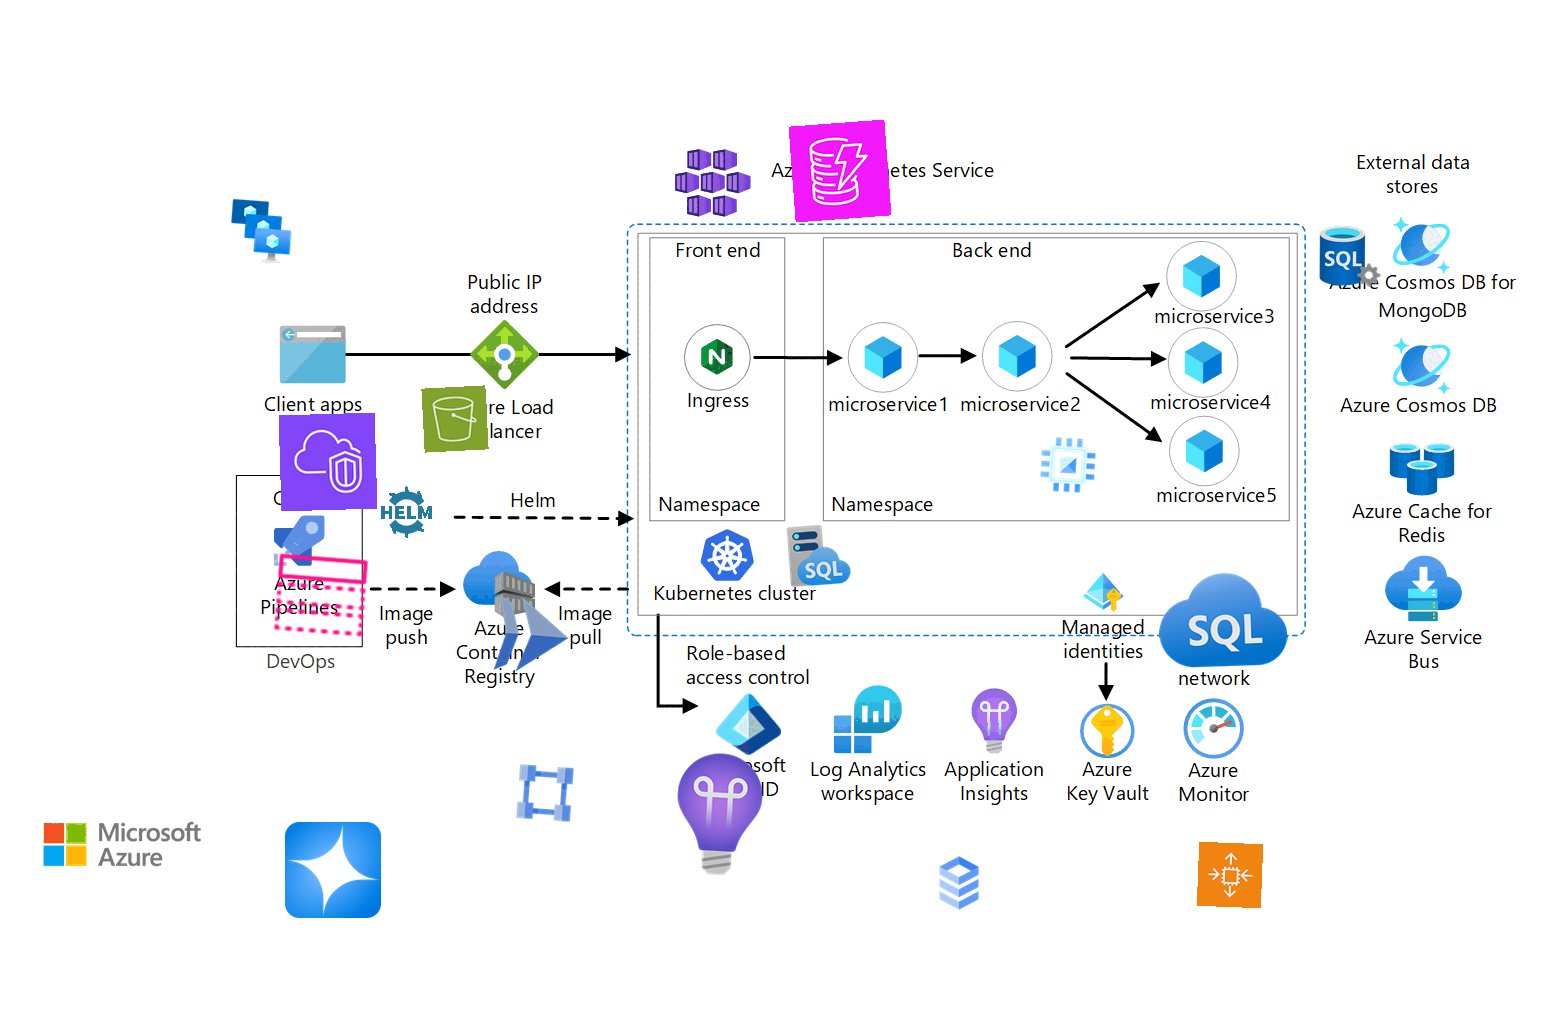aws_amazon_dynamodb: (788, 119, 893, 224)
aws_amazon_ec2_auto_scaling: (1196, 841, 1264, 909)
aws_amazon_simple_storage_service: (420, 385, 489, 453)
aws_amazon_virtual_private_cloud: (278, 411, 378, 512)
aws_simple_notification_service_topic: (269, 543, 374, 646)
azure_application_insights: (651, 746, 787, 881)
azure_openai: (284, 821, 382, 919)
azure_sql: (1156, 555, 1290, 689)
azure_sql_managed_instance: (784, 520, 854, 590)
azure_sql_server: (1316, 224, 1383, 289)
azure_vm_scale_sets: (225, 195, 294, 265)
gcp_cloud_run: (479, 583, 583, 687)
gcp_cloud_sql: (926, 850, 992, 916)
gcp_compute_engine: (1033, 431, 1102, 499)
gcp_virtual_private_cloud: (510, 758, 580, 828)
